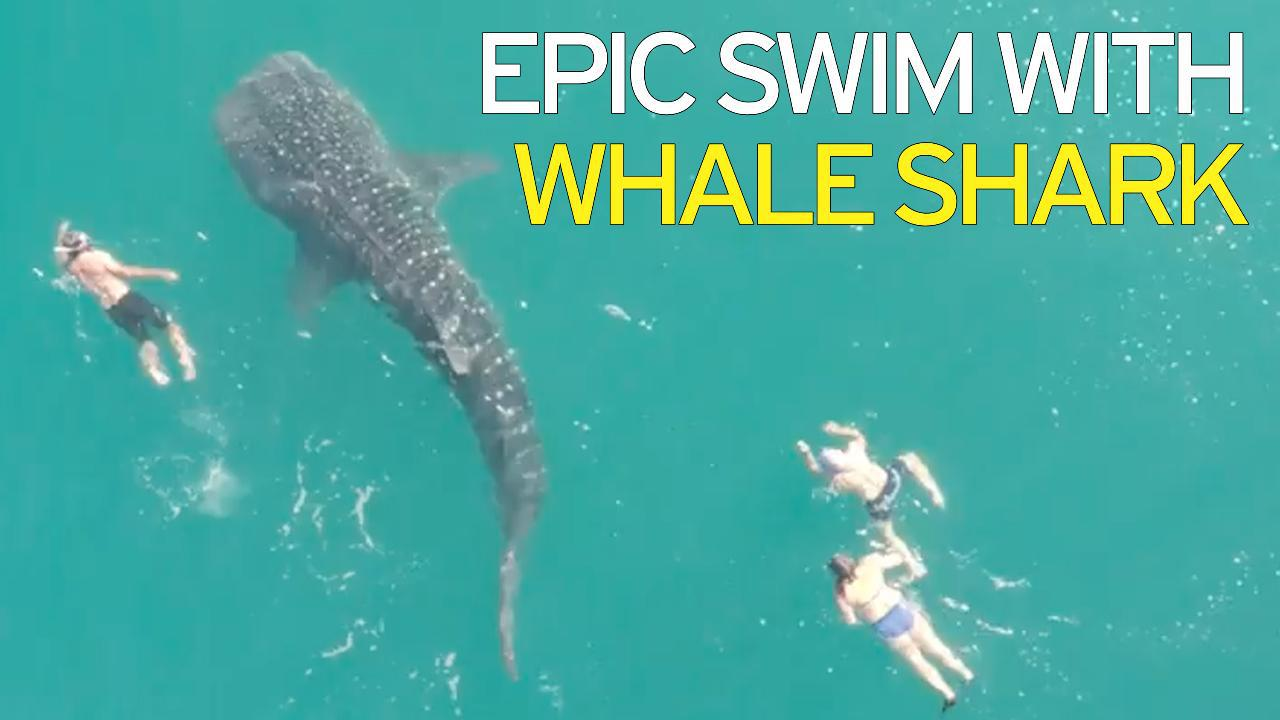human: (52, 219, 200, 387), (825, 551, 975, 710), (797, 419, 946, 574)
